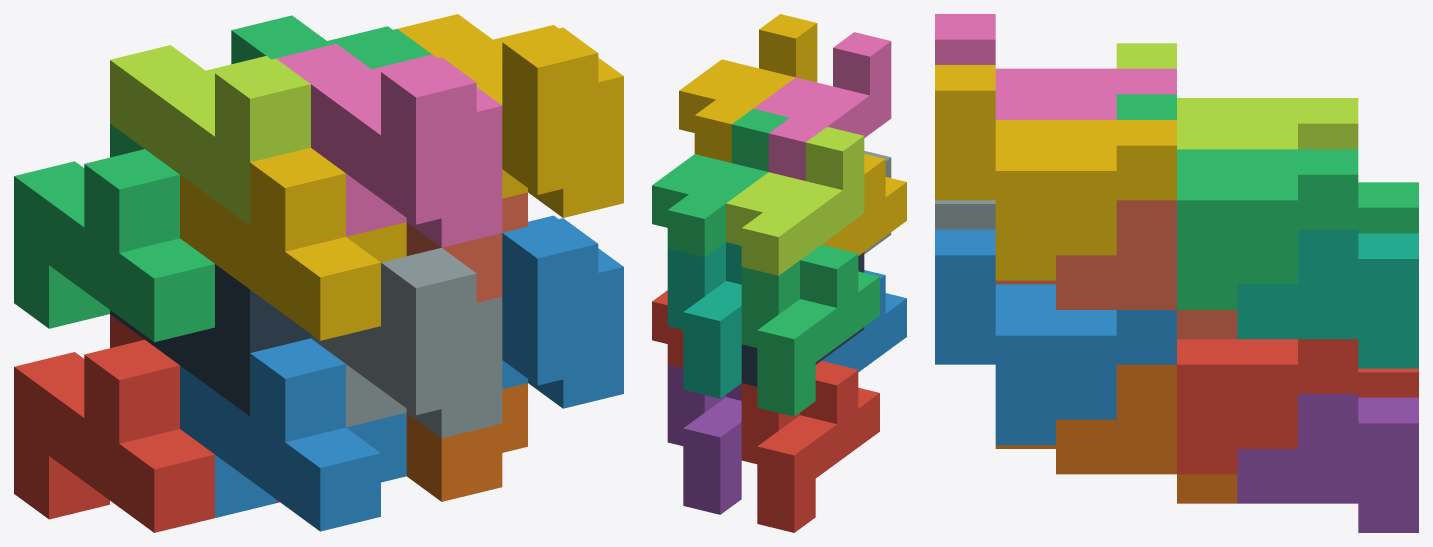
File: tiling.obj
3 renders of one model, left to right at view 1: azimuth 30°, elevation 25°; view 2: azimuth 150°, elevation 25°; view 3: azimuth 270°, elevation 25°, orthographic. The views are drawn at different scales.
Parts seen in each view (by area): view 1: copy_2_domain_4, copy_1_domain_3, copy_1_domain_1, copy_1_domain_2, copy_1_domain_4, copy_2_domain_8, copy_2_domain_2, copy_2_domain_3, copy_2_domain_6, copy_2_domain_1, copy_1_domain_6, copy_2_domain_7 (+1 smaller); view 2: copy_1_domain_3, copy_1_domain_1, copy_2_domain_3, copy_2_domain_4, copy_1_domain_7, copy_2_domain_8, copy_2_domain_7, copy_1_domain_5, copy_1_domain_4, copy_1_domain_2, copy_2_domain_5, copy_2_domain_1 (+1 smaller); view 3: copy_2_domain_8, copy_2_domain_6, copy_2_domain_7, copy_1_domain_7, copy_1_domain_5, copy_2_domain_5, copy_1_domain_6, copy_1_domain_8, copy_2_domain_4, copy_2_domain_3, copy_1_domain_3, copy_1_domain_1 (+1 smaller).
Boxes of the visible parts, bbox=[...] form: copy_2_domain_4: bbox=[276, 43, 502, 247]; copy_1_domain_3: bbox=[14, 124, 214, 342]; copy_1_domain_1: bbox=[14, 314, 214, 532]; copy_1_domain_2: bbox=[180, 338, 406, 531]; copy_1_domain_4: bbox=[180, 147, 406, 340]; copy_2_domain_8: bbox=[397, 14, 623, 217]; copy_2_domain_2: bbox=[311, 248, 502, 438]; copy_2_domain_3: bbox=[110, 45, 310, 225]; copy_2_domain_6: bbox=[502, 215, 623, 408]; copy_2_domain_1: bbox=[110, 264, 310, 416]; copy_1_domain_6: bbox=[406, 383, 527, 501]; copy_2_domain_7: bbox=[231, 15, 431, 69]; copy_1_domain_3: bbox=[741, 244, 879, 416]; copy_1_domain_1: bbox=[741, 361, 879, 532]; copy_2_domain_3: bbox=[726, 127, 864, 275]; copy_2_domain_4: bbox=[753, 32, 891, 180]; copy_1_domain_7: bbox=[667, 242, 741, 398]; copy_2_domain_8: bbox=[679, 14, 817, 162]; copy_2_domain_7: bbox=[652, 108, 789, 257]; copy_1_domain_5: bbox=[667, 365, 741, 514]; copy_1_domain_4: bbox=[822, 154, 906, 255]; copy_1_domain_2: bbox=[822, 270, 906, 372]; copy_2_domain_5: bbox=[652, 290, 683, 368]; copy_2_domain_1: bbox=[741, 252, 864, 386]; copy_2_domain_8: bbox=[935, 65, 1176, 280]; copy_2_domain_6: bbox=[935, 229, 1176, 445]; copy_2_domain_7: bbox=[1116, 94, 1358, 309]; copy_1_domain_7: bbox=[1237, 229, 1418, 368]; copy_1_domain_5: bbox=[1237, 394, 1418, 532]; copy_2_domain_5: bbox=[1177, 339, 1358, 474]; copy_1_domain_6: bbox=[995, 364, 1237, 503]; copy_1_domain_8: bbox=[995, 200, 1237, 339]; copy_2_domain_4: bbox=[935, 14, 1176, 119]; copy_2_domain_3: bbox=[1116, 43, 1358, 149]; copy_1_domain_3: bbox=[1358, 182, 1418, 233]; copy_1_domain_1: bbox=[1358, 368, 1418, 397].
Bounding box in the file's own units: 6 × 9 × 8.
